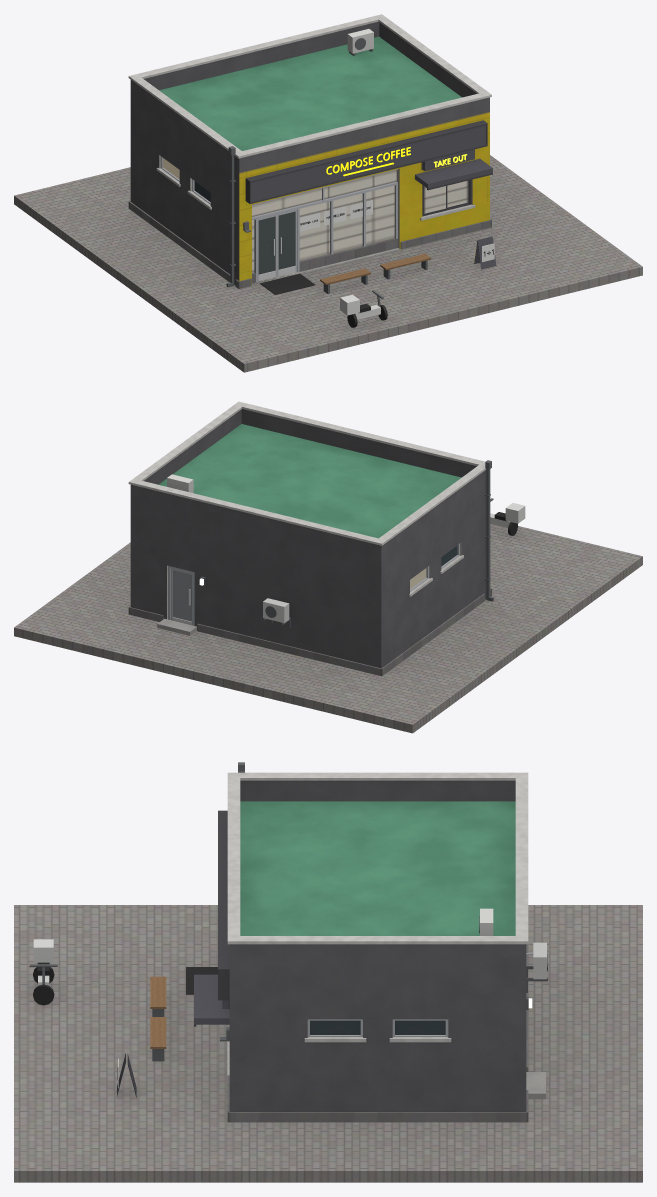
Rendered from IlsanCompose.fbx.
3 renders of one model, top to bottom at view 1: azimuth 30°, elevation 25°; view 2: azimuth 150°, elevation 25°; view 3: azimuth 270°, elevation 25°, orthographic. The views are drawn at different scales.
Parts seen in each view (by area): view 1: IlsanCompose; view 2: IlsanCompose; view 3: IlsanCompose.
Part boxes in pixels (bbox=[...]): IlsanCompose: bbox=[14, 14, 642, 372]; IlsanCompose: bbox=[14, 401, 642, 733]; IlsanCompose: bbox=[14, 762, 642, 1182].
Bounding box in the file's own units: 15.9 × 5.6 × 15.9.
1 material, 1 textured.
